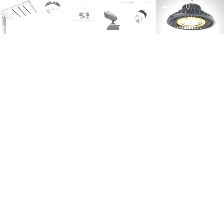light_bulb: (165, 2, 218, 33), (0, 0, 37, 24), (38, 3, 66, 26), (70, 9, 102, 28), (132, 5, 152, 28)
